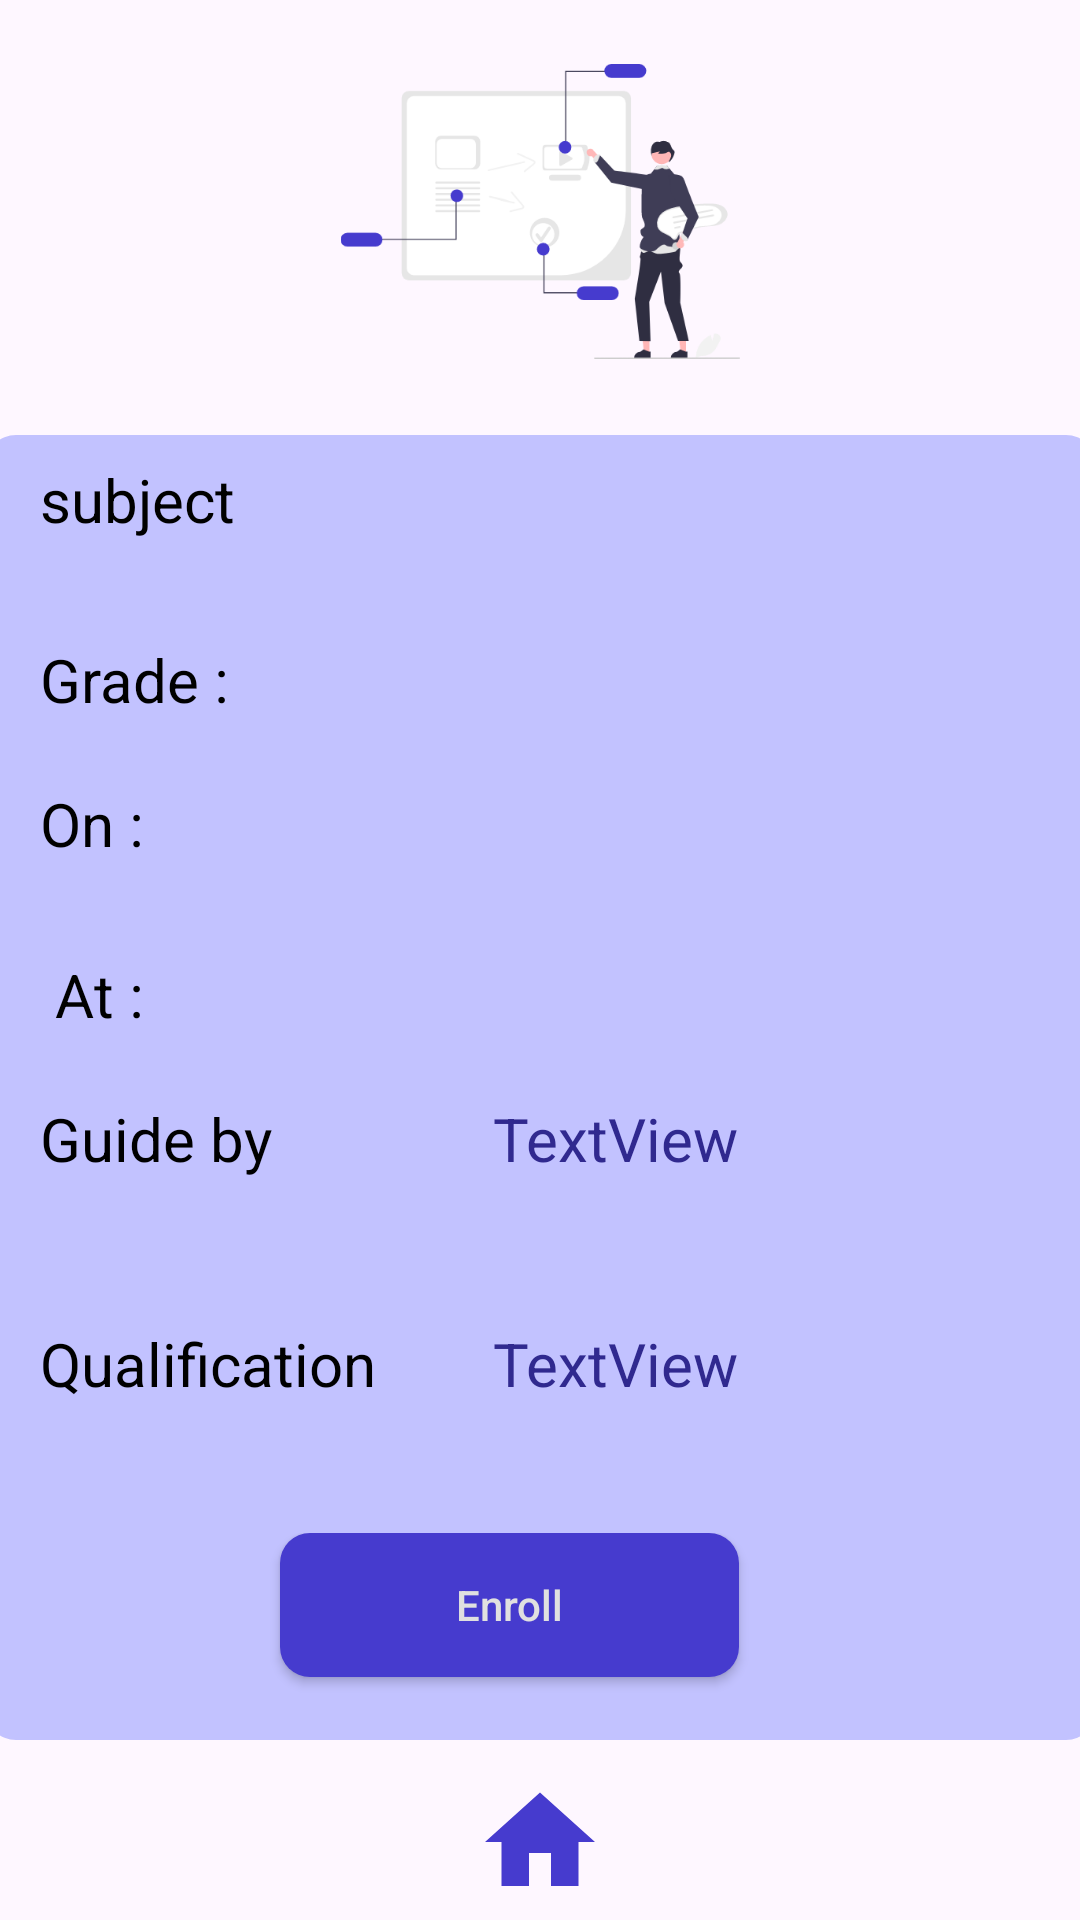

Screen size 1080×1920. Icon name, then its center in pixels as point (x, y):
home 24home: point (540, 1839)
